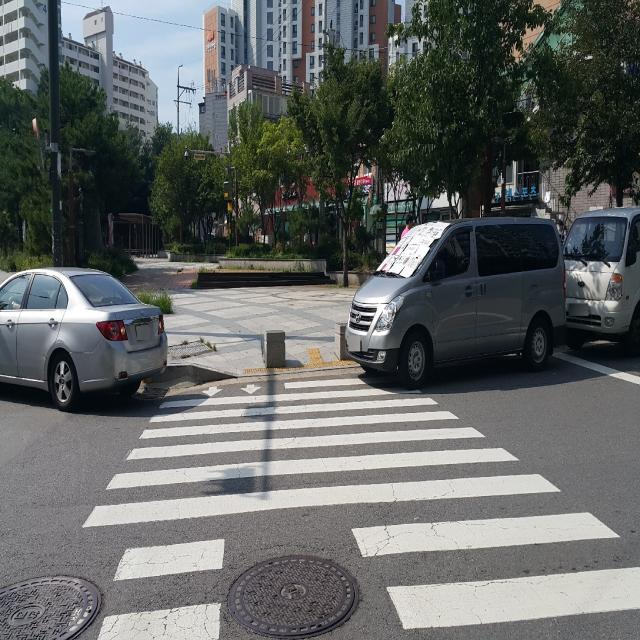횡단보도: (80, 374, 640, 640)
